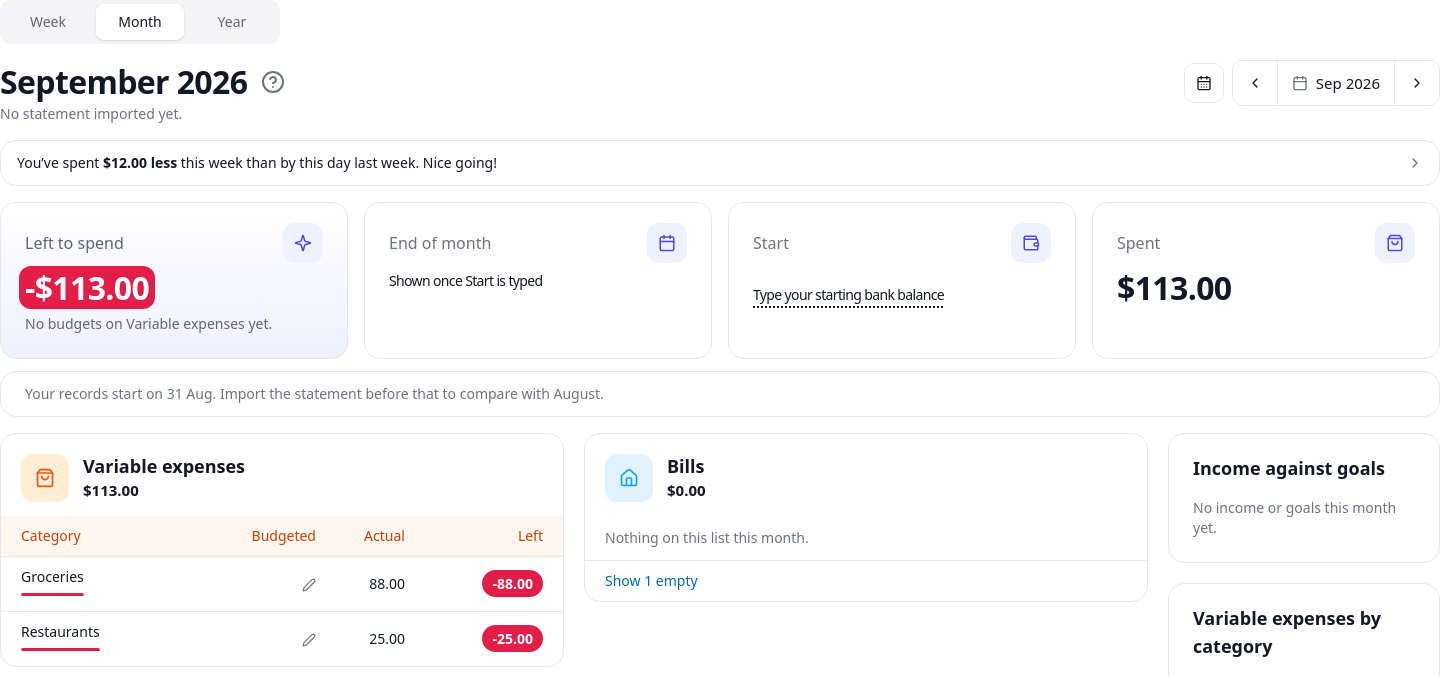
Test: a charge in the main goal’s time (A08, D29) › says what each Variable charge cost in the main goal’s time
Expected: the column heading "Groceries" is shown, [1, 556, 188, 611]
Click the button "Groceries" at (52, 581), box [21, 567, 84, 596]
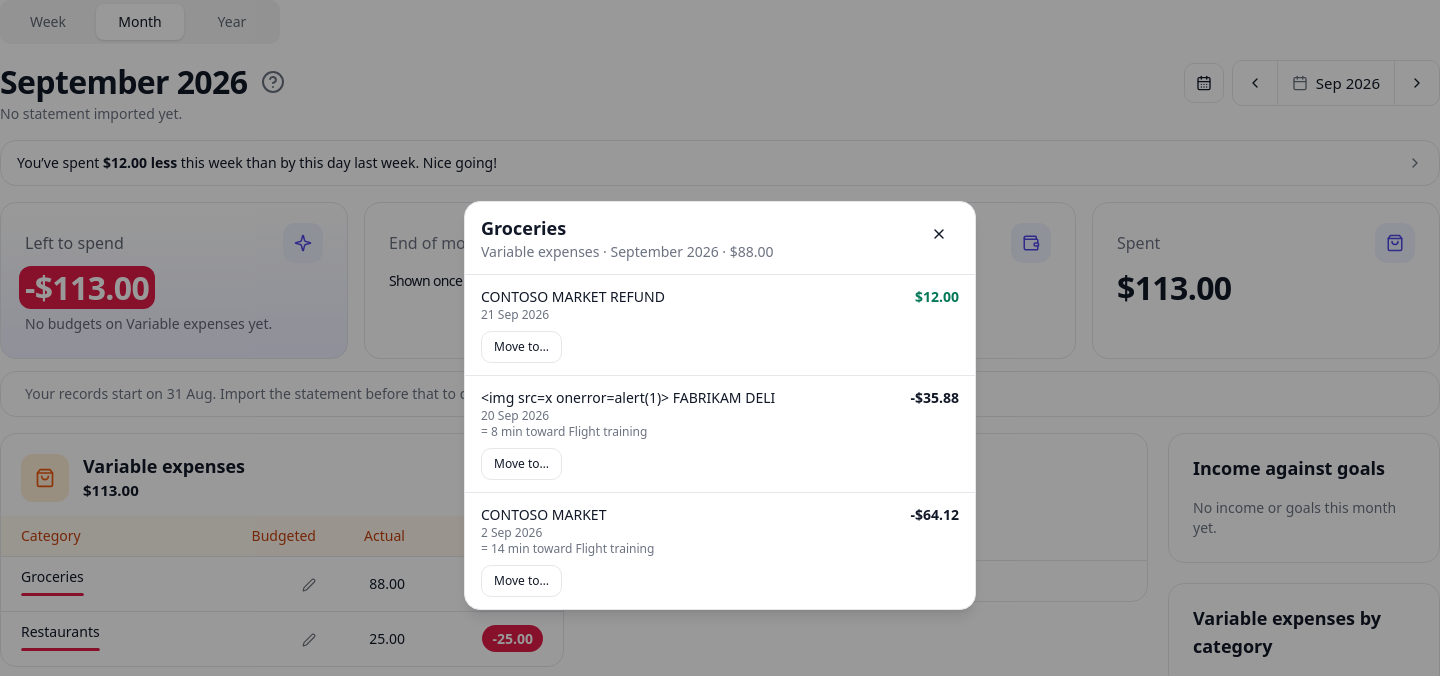
Now the elements " toward Flight training" read "= 8 min toward Flight training", "= 14 min toward Flight training", in this order, box [481, 422, 647, 440]; [481, 540, 654, 556]
